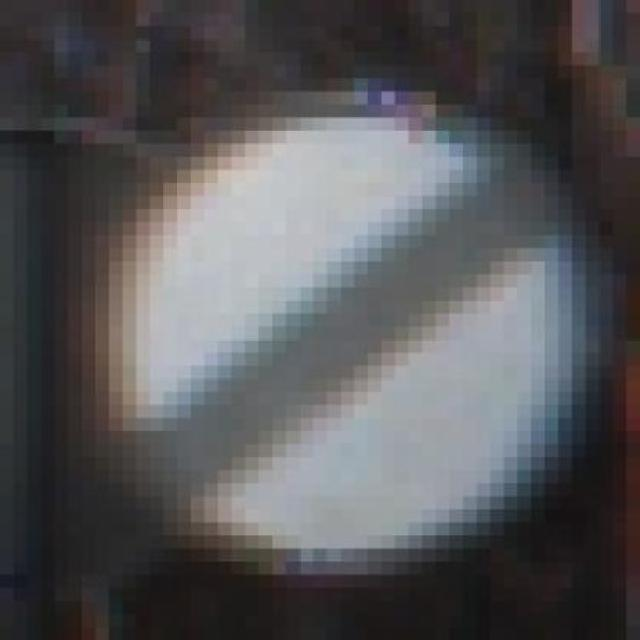End of all speed and passing limits: (52, 99, 625, 570)
